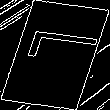L_E: (11, 35, 99, 75)
